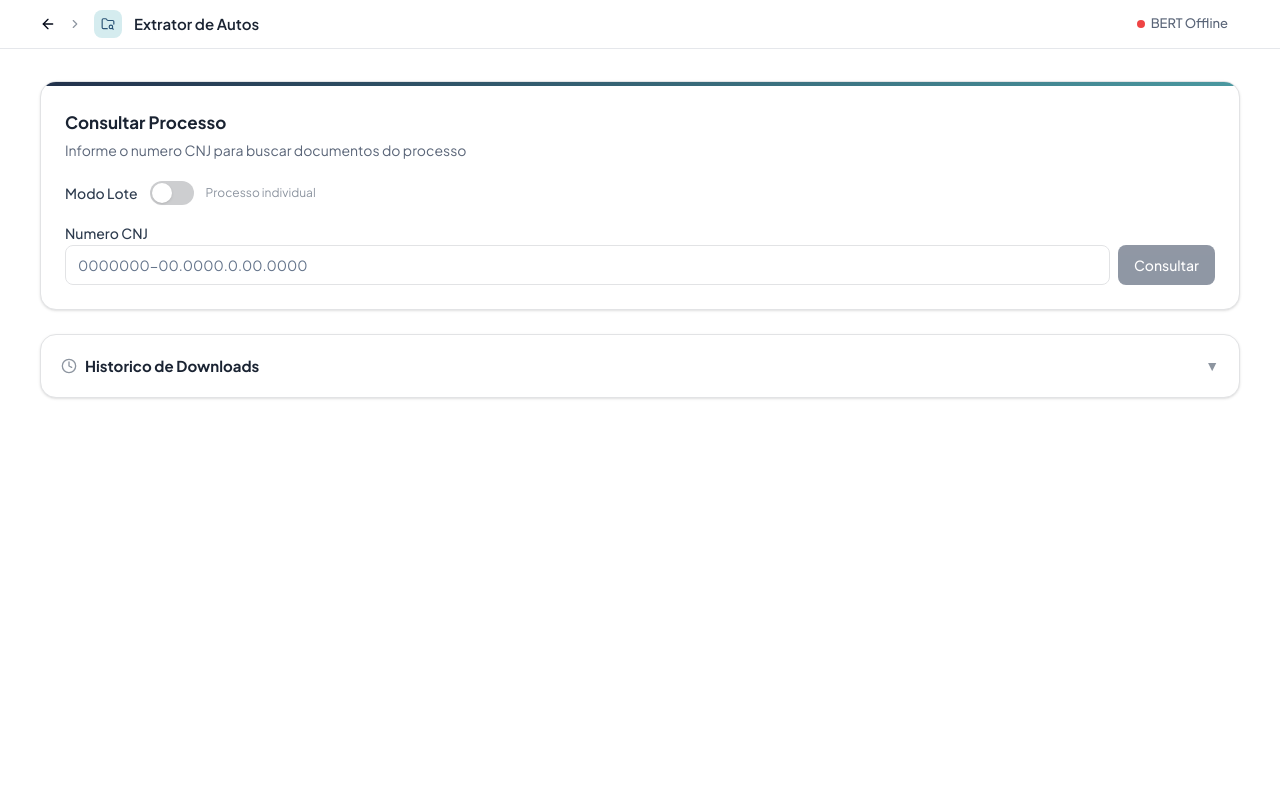
Scenario: ExtratorAutosPage › deve mostrar textarea quando Modo Lote e ativado
The image size is (1280, 800).
Click the switch: (172, 192) 150,180 -> 194,204
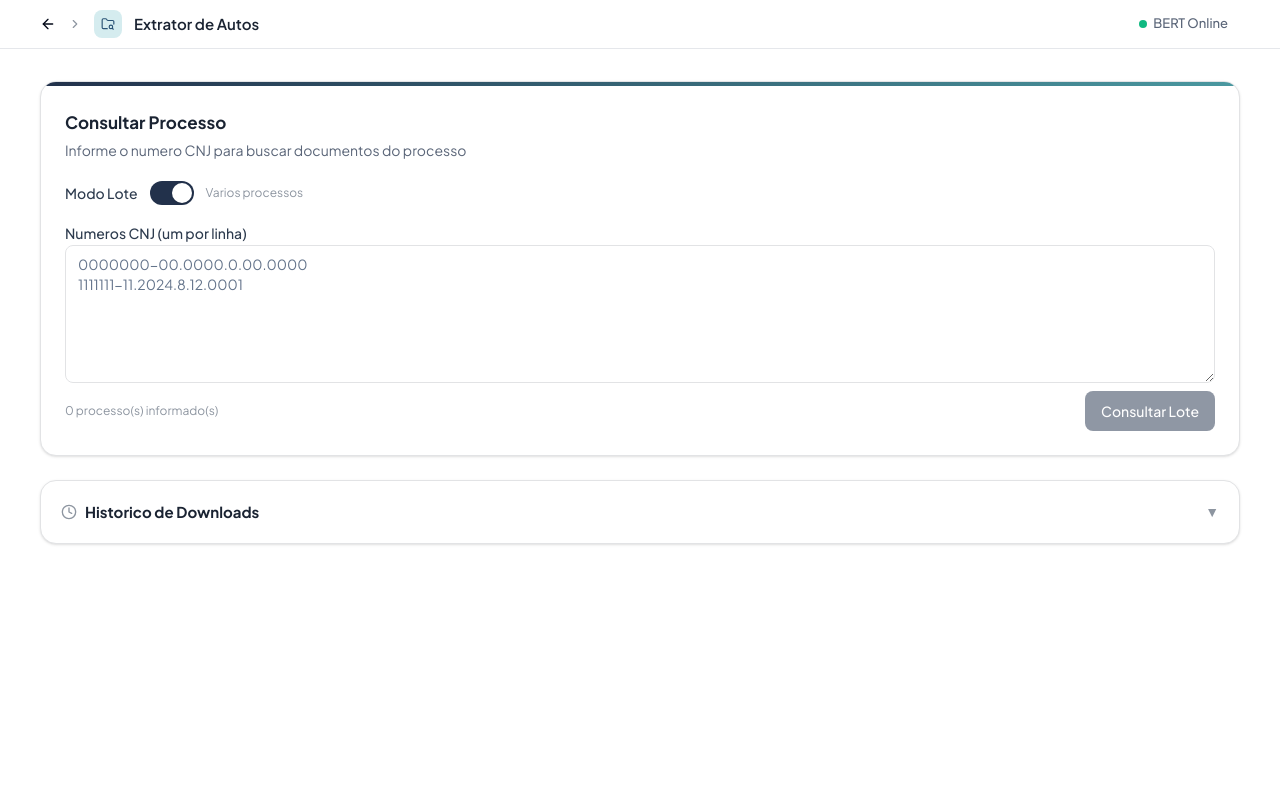
Now the text box with test id "lote-textarea" is shown, box 65,244 -> 1215,382
